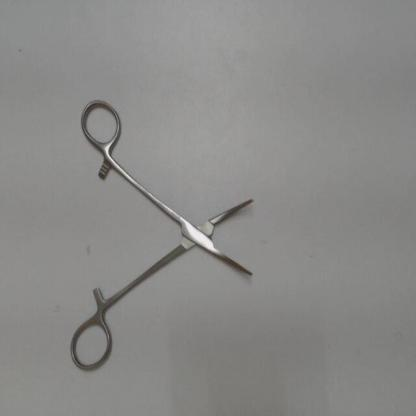Crile Artery Forceps: (66, 90, 270, 381)
